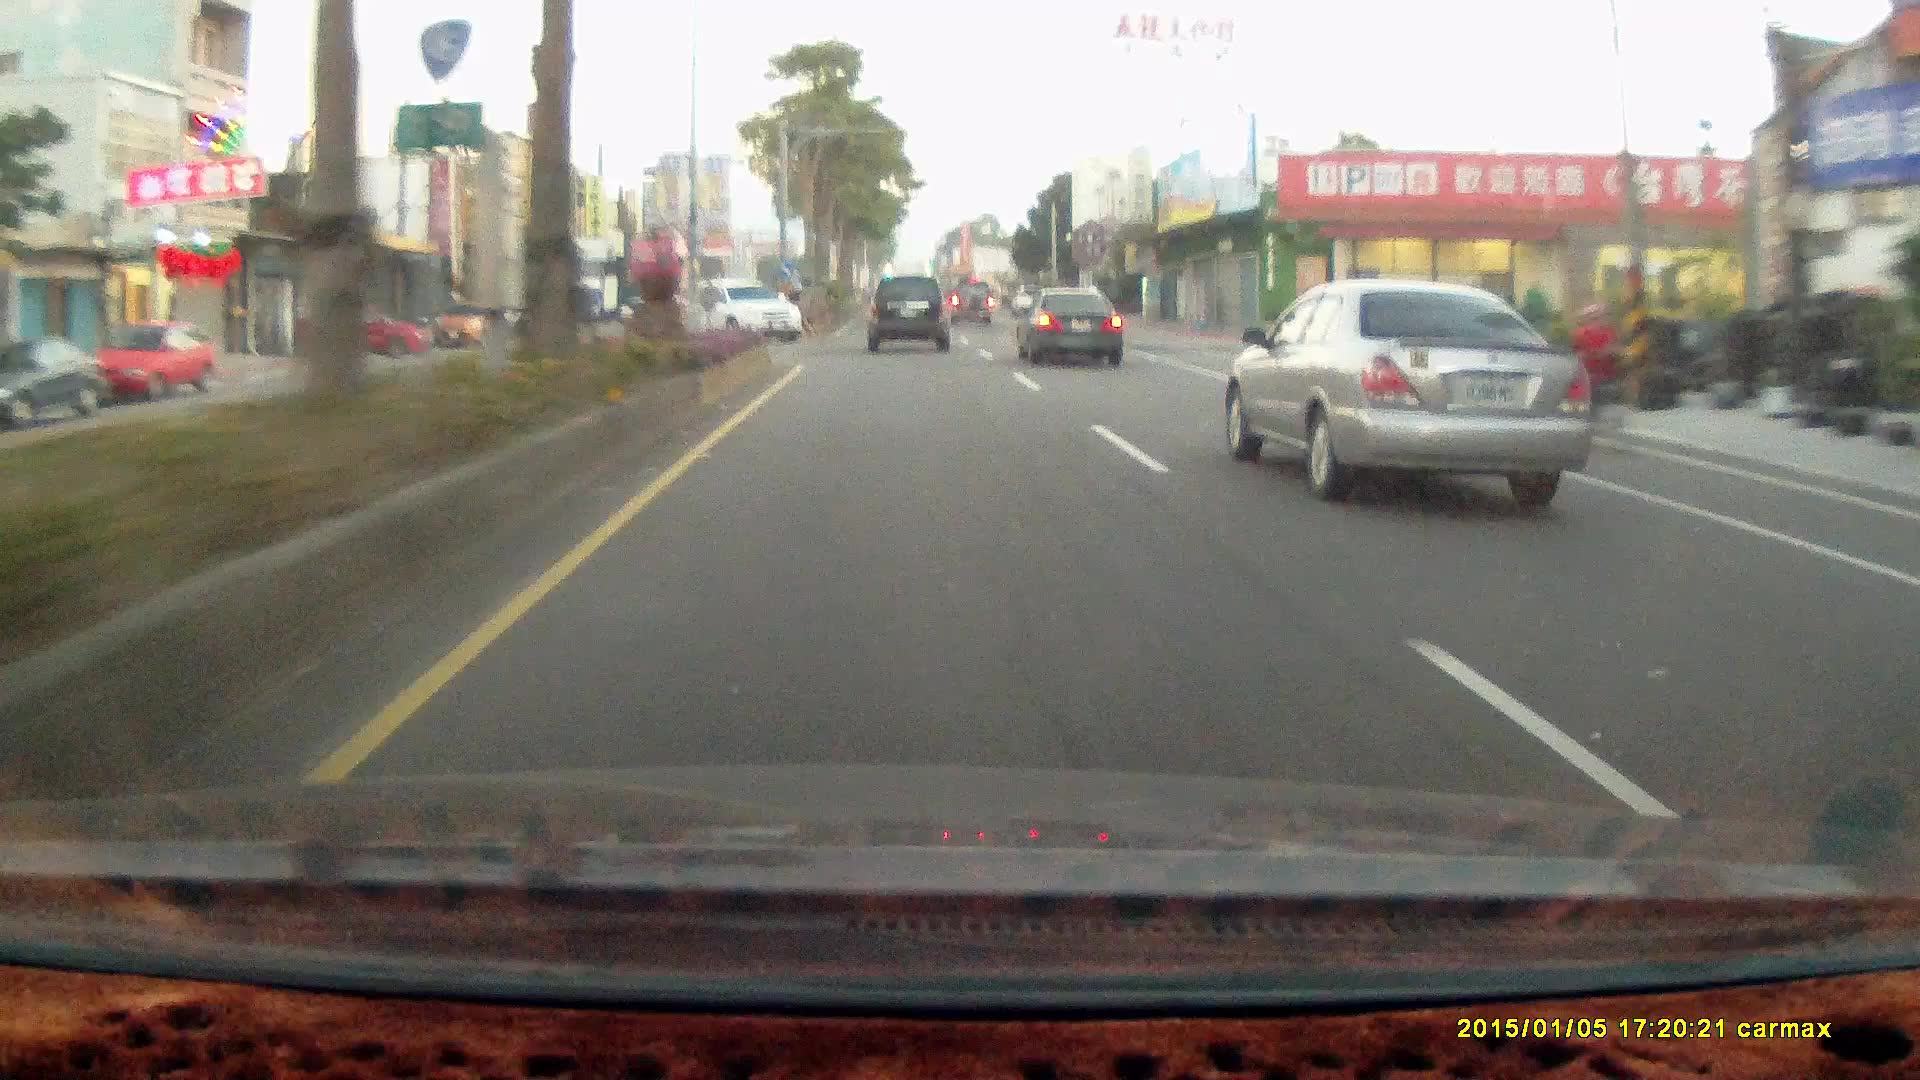pedestrian: (1569, 299, 1625, 446), (1564, 300, 1619, 436)
vehicle: (1238, 280, 1593, 504), (1012, 285, 1128, 371), (88, 323, 215, 401), (90, 324, 217, 401), (0, 336, 100, 431), (284, 301, 436, 359), (287, 306, 441, 364), (1013, 286, 1122, 365), (685, 280, 803, 346), (868, 276, 957, 354), (707, 281, 806, 347), (865, 274, 948, 352), (947, 283, 995, 333), (947, 278, 995, 327)
